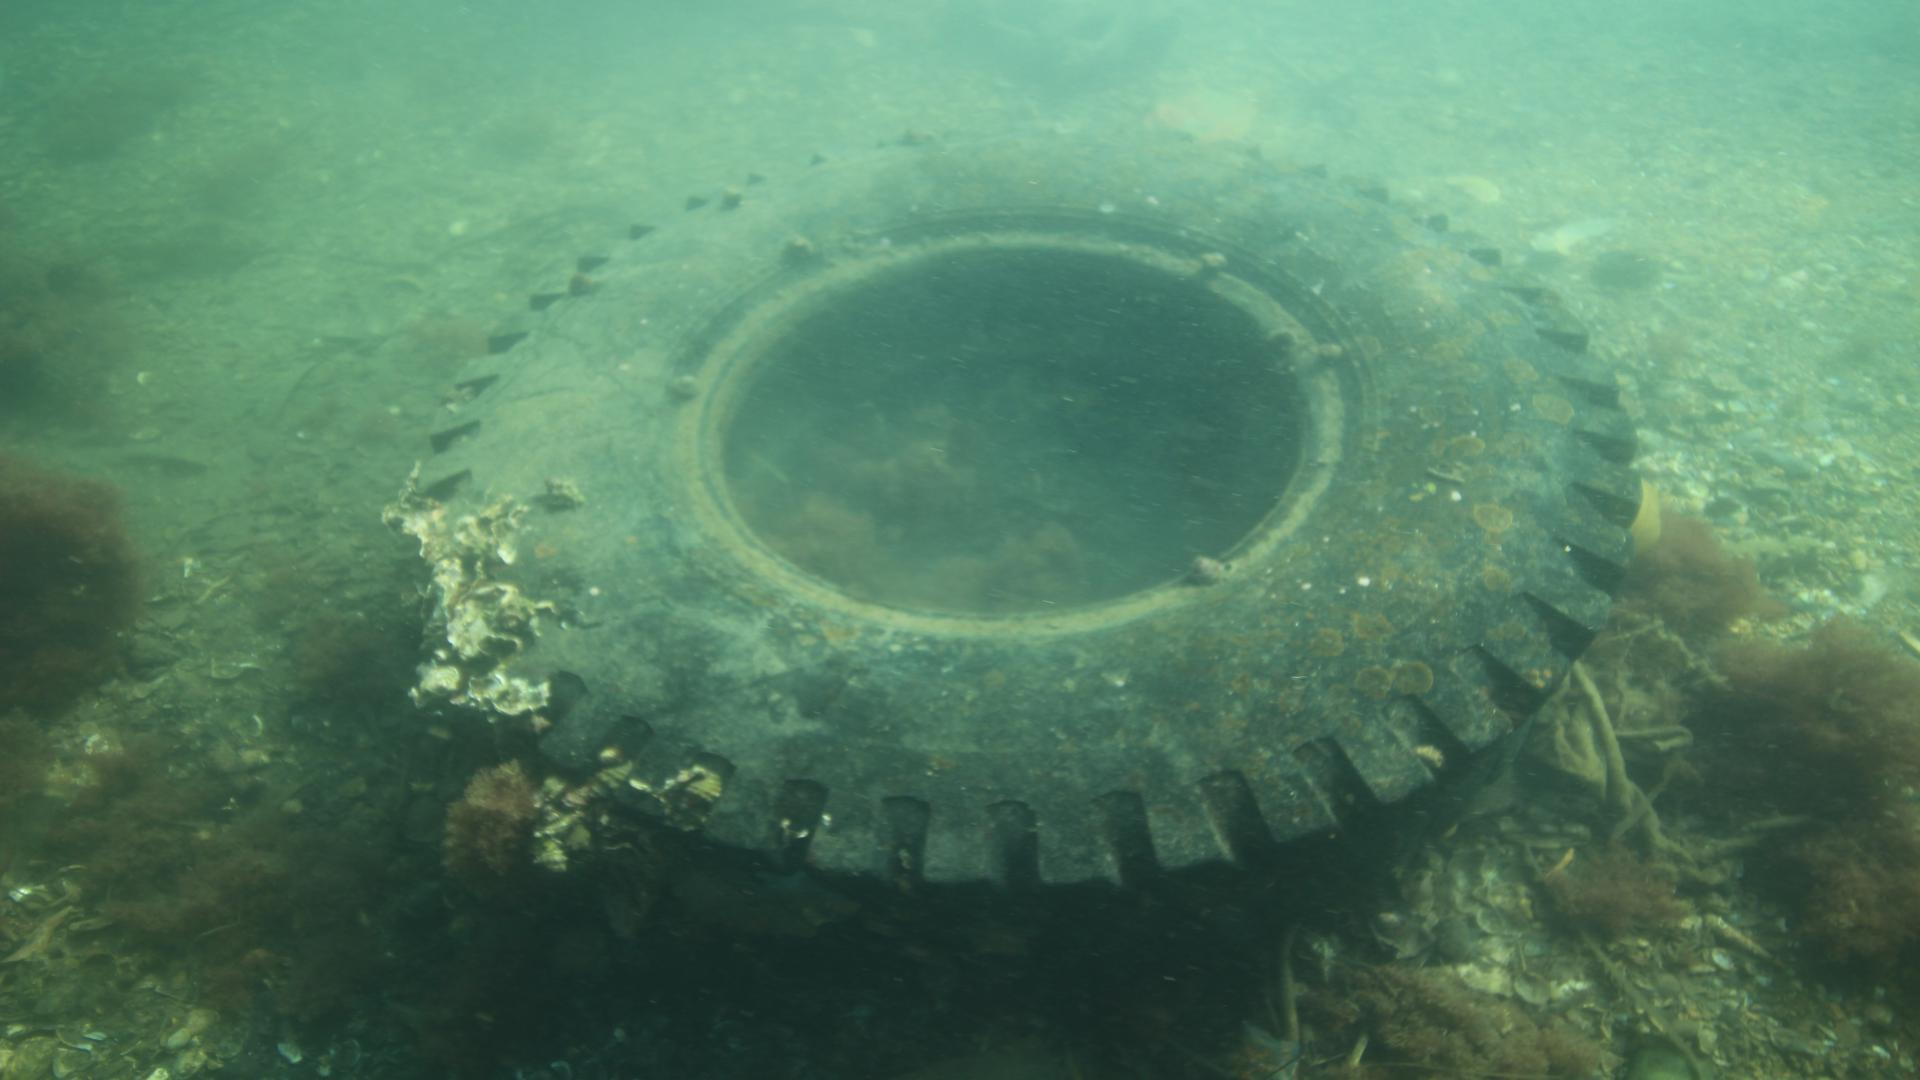tire: (411, 121, 1644, 986)
